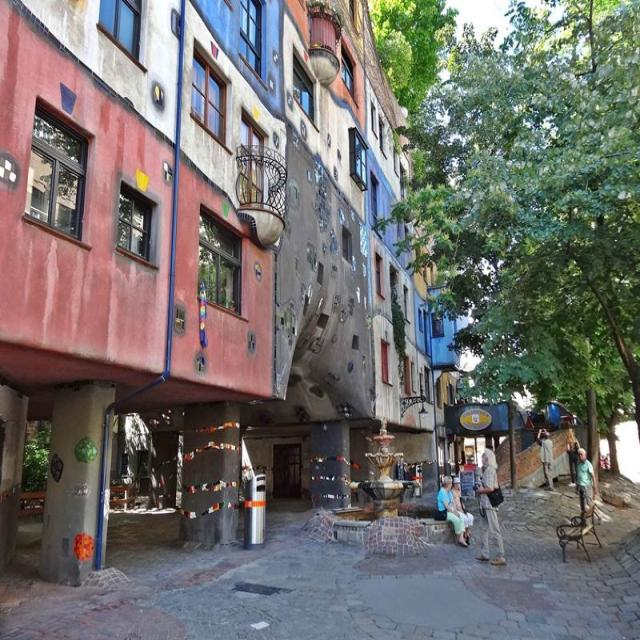body: (472, 446, 508, 566), (432, 472, 470, 550), (574, 446, 604, 527), (392, 452, 425, 508), (450, 476, 474, 541), (534, 427, 554, 492), (564, 426, 582, 488), (526, 402, 541, 423), (456, 449, 468, 475), (598, 449, 612, 469), (479, 451, 486, 473)
